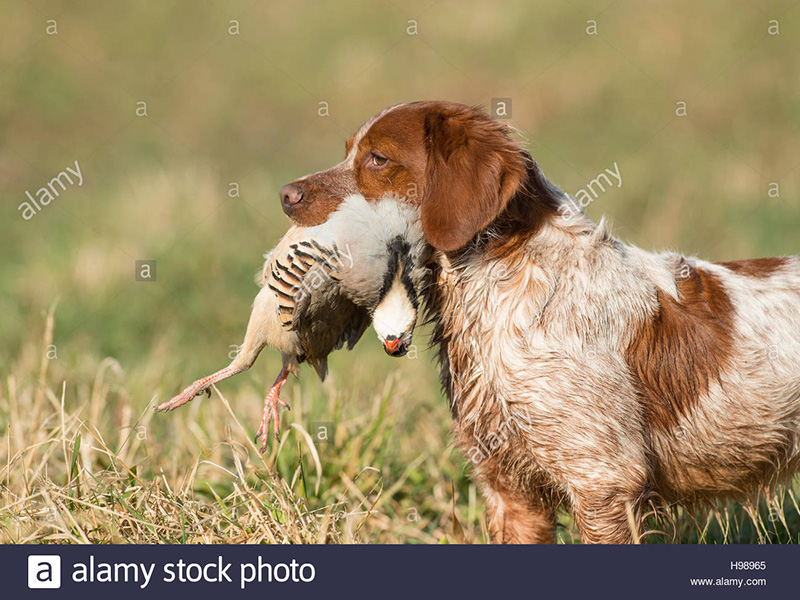cane da caccia: (298, 96, 798, 537)
